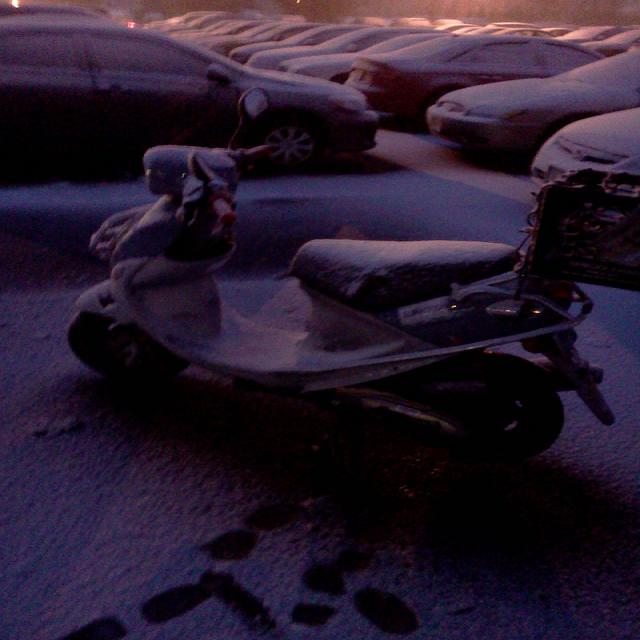Motorbike: (68, 88, 619, 465)
